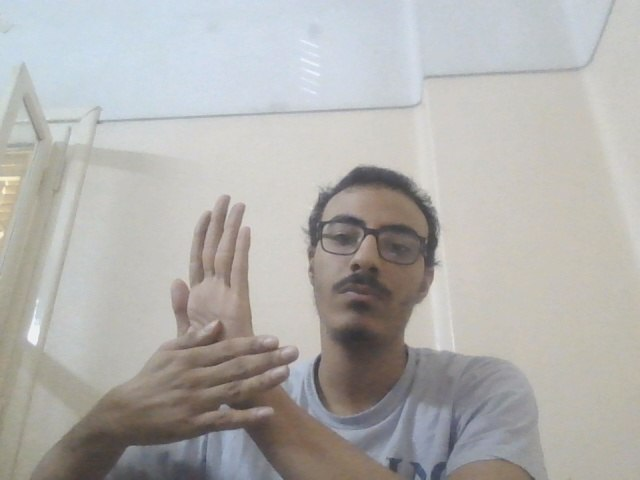Movie: (110, 192, 296, 449)
